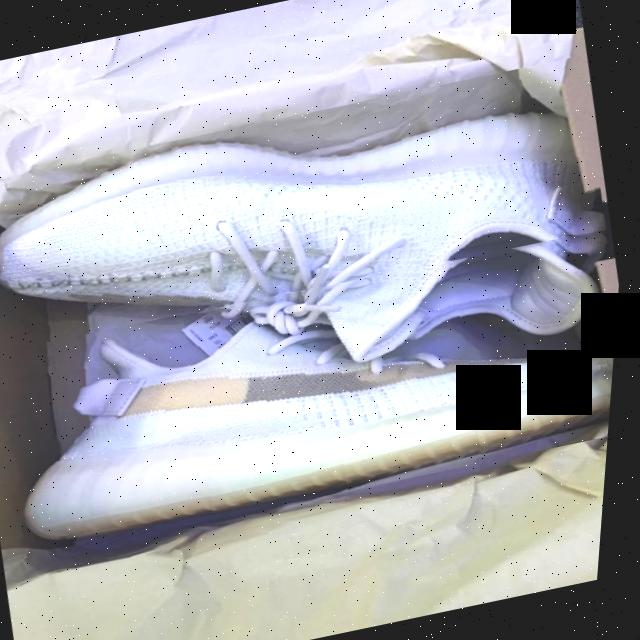shoe: (0, 54, 637, 444), (0, 223, 627, 561)
